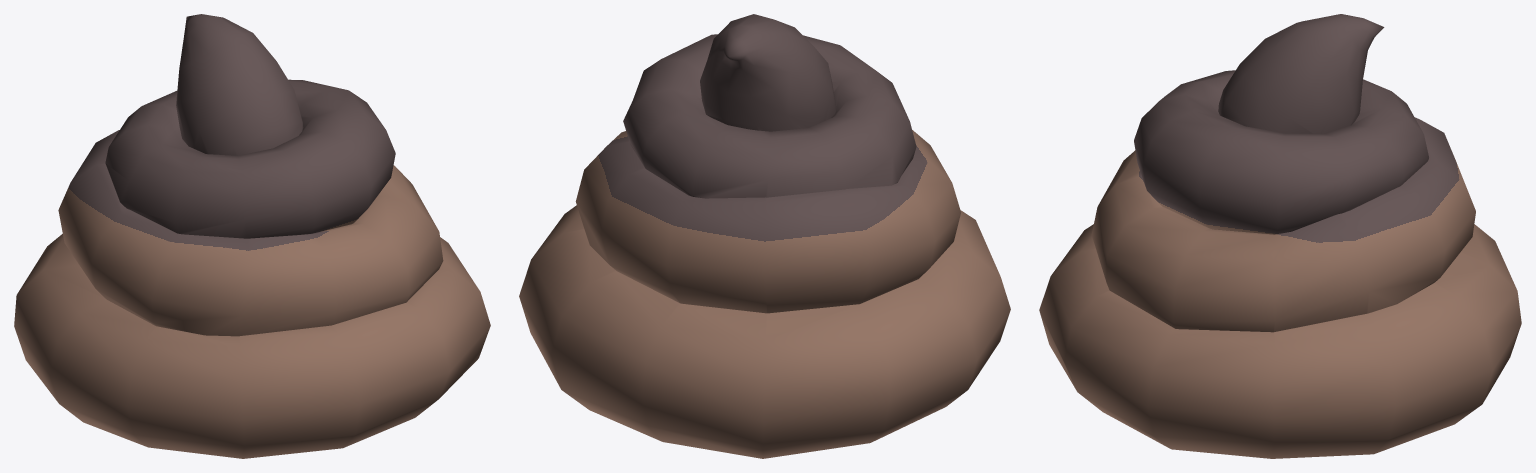
The model's file is caca.fbx.
3 renders of one model, left to right at view 1: azimuth 30°, elevation 25°; view 2: azimuth 150°, elevation 25°; view 3: azimuth 270°, elevation 25°, orthographic. The views are drawn at different scales.
Visible parts, largest first — view 1: caca; view 2: caca; view 3: caca.
Part boxes in pixels (<box>): caca: <box>14,14,490,458</box>; caca: <box>519,14,1010,458</box>; caca: <box>1039,14,1521,458</box>.
Bounding box in the file's own units: 34.25 × 29.52 × 34.27.
